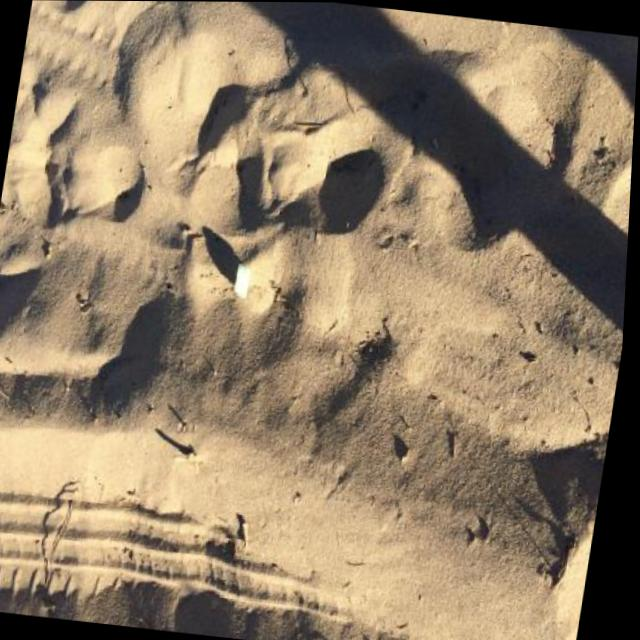other: (231, 261, 254, 300)
